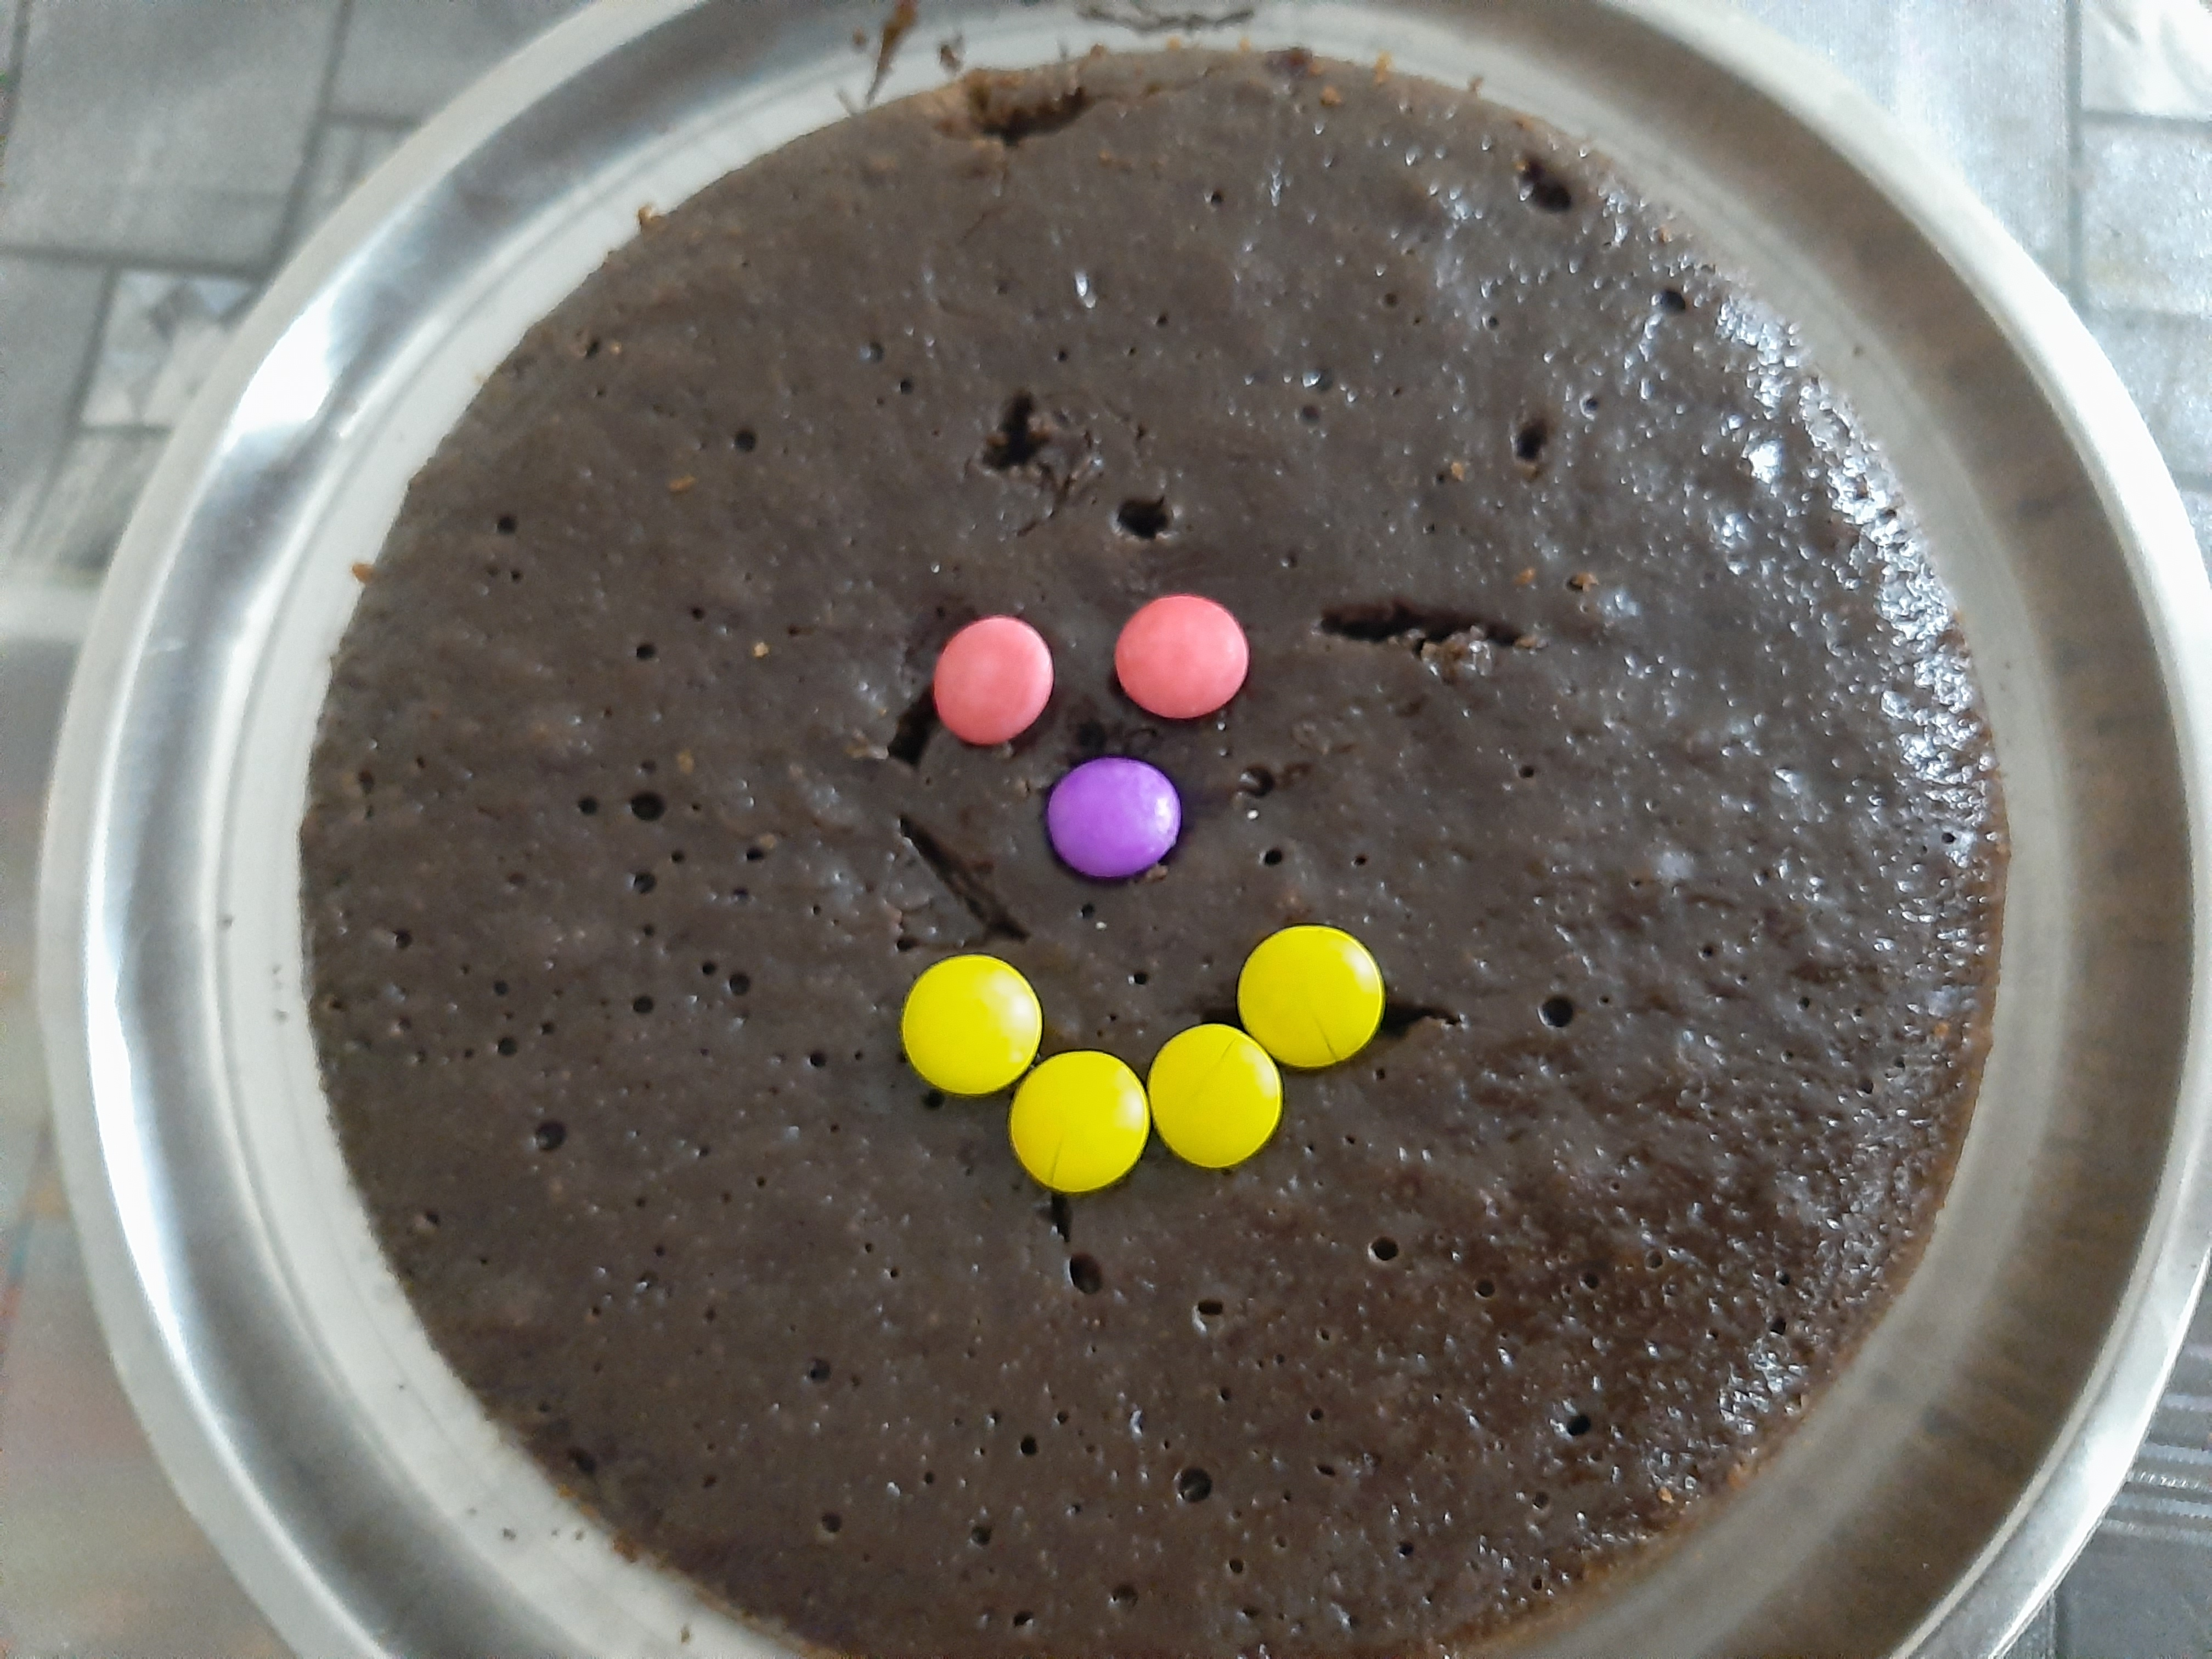food: (284, 24, 2033, 1659)
